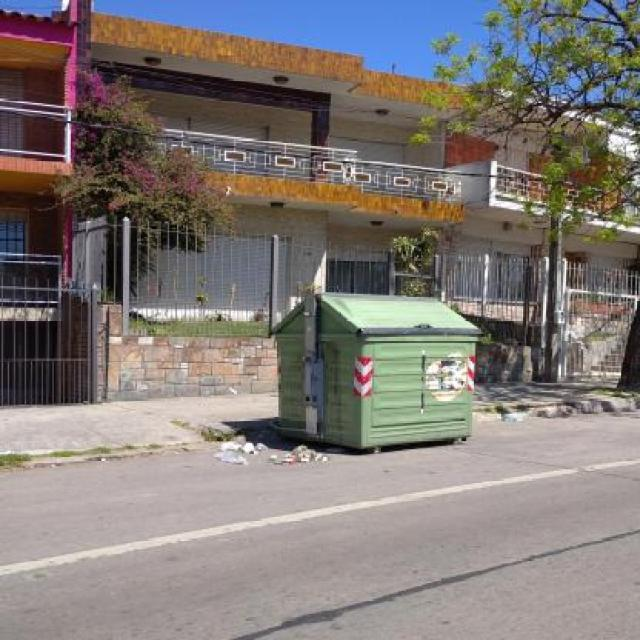garbage: (185, 426, 344, 488), (488, 403, 558, 424)
